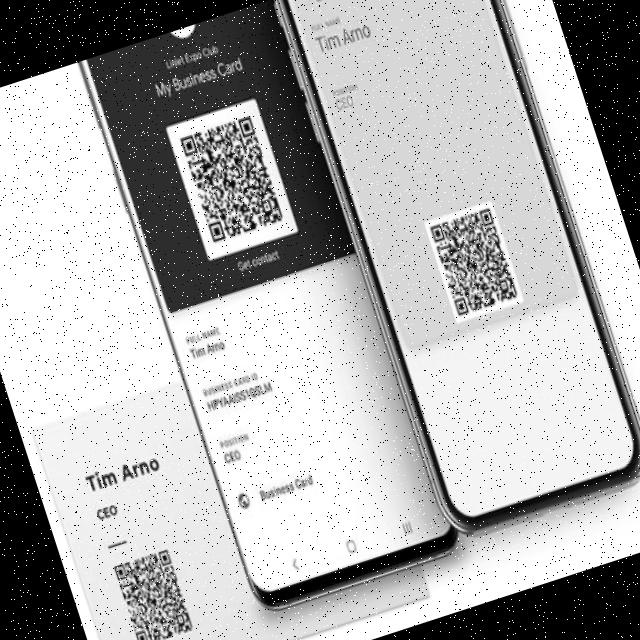QR-codes: (178, 113, 285, 244), (426, 202, 520, 318), (111, 545, 195, 640)
